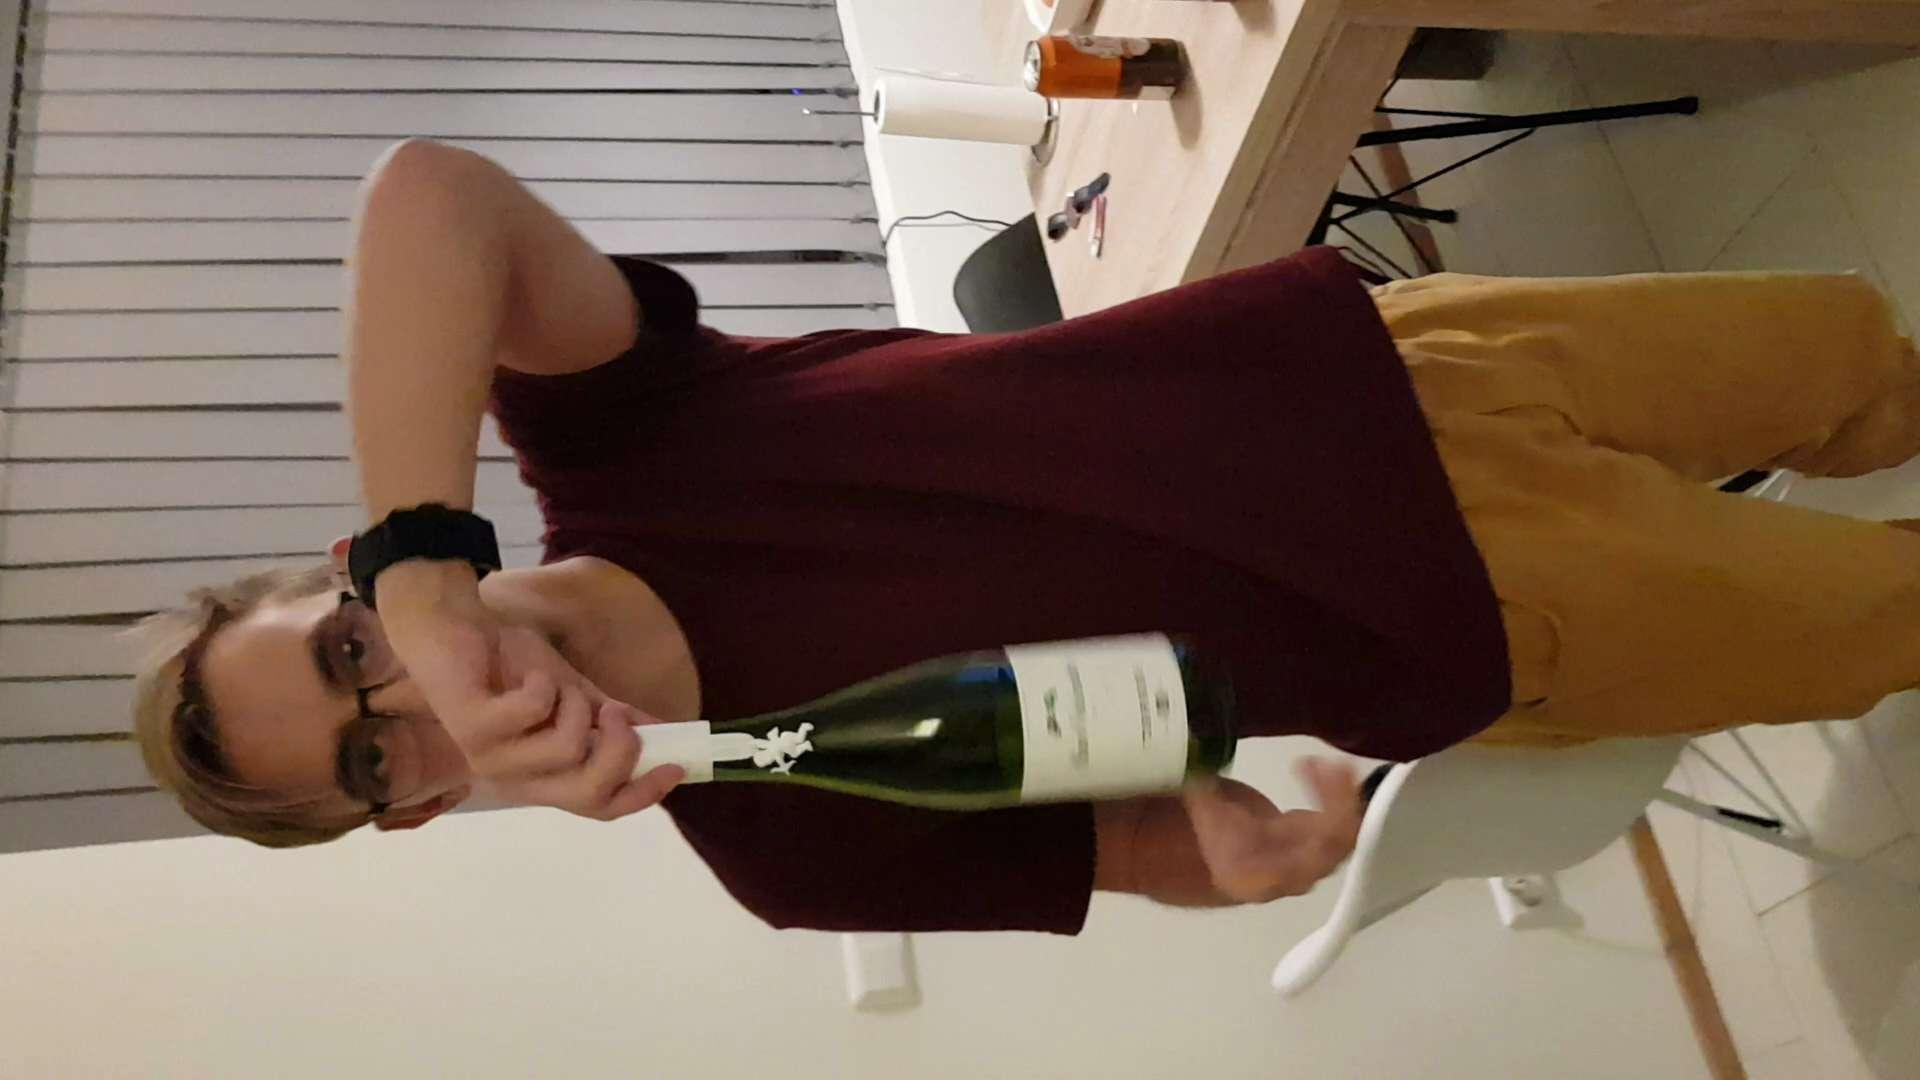Bottle: (596, 625, 1244, 829)
